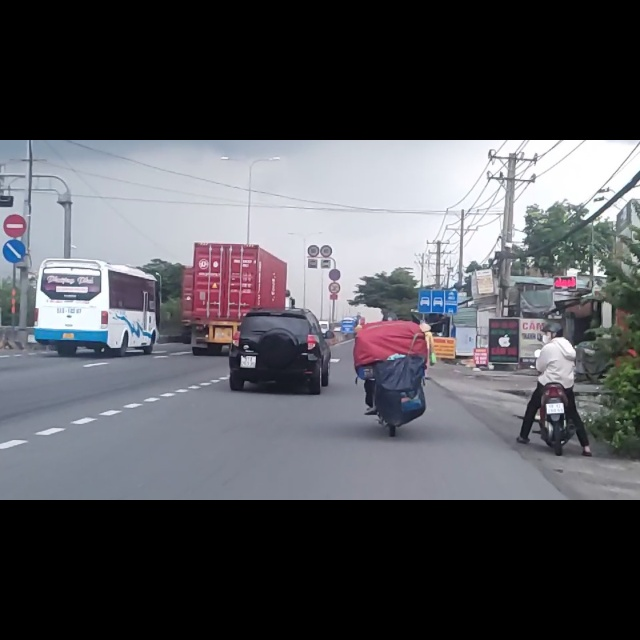bien_chi_dan: (418, 264, 458, 309), (2, 173, 28, 223), (3, 130, 26, 171), (328, 229, 341, 250)
